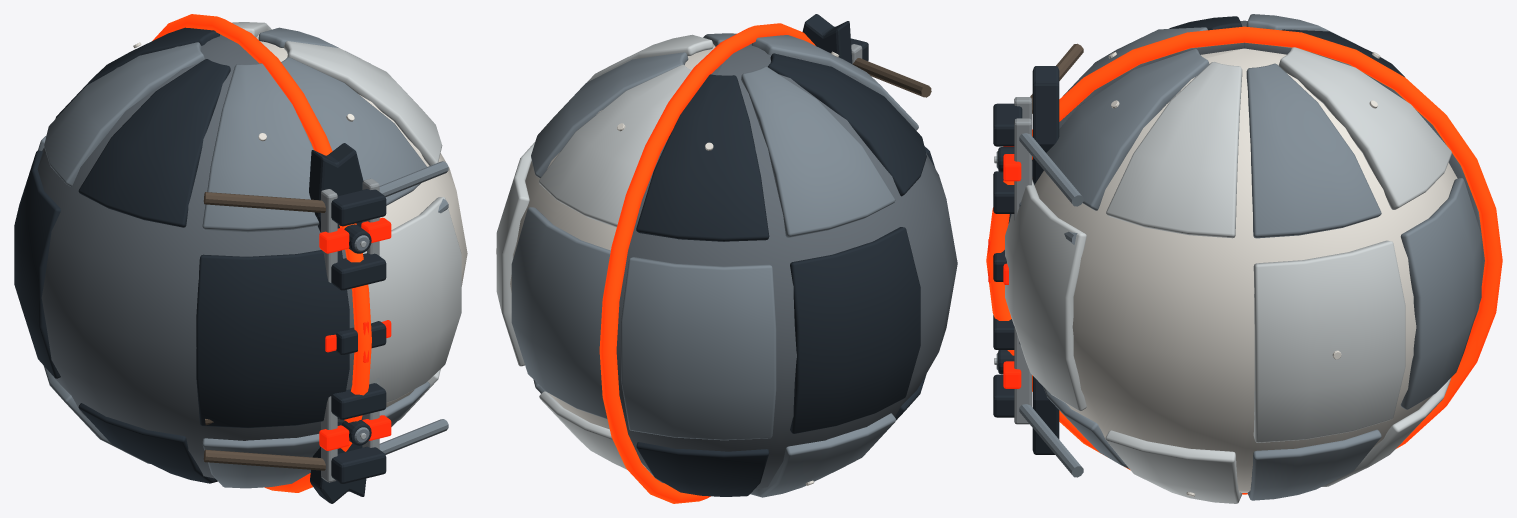
File: orbit-transform-balanced.glb
3 views of the same model, side by side, from view 1: azimuth 30°, elevation 25°; view 2: azimuth 150°, elevation 25°; view 3: azimuth 270°, elevation 25° (orthographic). The views are drawn at different scales.
Visible parts, largest first — view 1: Transform_MID_Legacy, Transform_MID_Legacy_ArmourTile_01_03, Transform_MID_Future_ArmourTile_01_00, Transform_MID_Legacy_ArmourTile_00_02, Transform_MID_Legacy_ArmourTile_00_03, Transform_MID_Legacy_ArmourTile_00_01, Transform_MID_Future_ArmourTile_00_00, Transform_MID_Fault, Transform_MID_Legacy_ArmourTile_01_01, Transform_MID_Future_ArmourTile_00_01, Transform_MID_Legacy_ArmourTile_02_03, Transform_MID_Legacy_ArmourTile_02_02 (+20 smaller); view 2: Transform_MID_Legacy, Transform_MID_Legacy_ArmourTile_01_00, Transform_MID_Legacy_ArmourTile_01_01, Transform_MID_Legacy_ArmourTile_00_00, Transform_MID_Future_ArmourTile_01_03, Transform_MID_Legacy_ArmourTile_00_01, Transform_MID_Future_ArmourTile_00_03, Transform_MID_Fault, Transform_MID_Legacy_ArmourTile_00_02, Transform_MID_Legacy_ArmourTile_02_00, Transform_MID_Future_ArmourTile_00_02, Transform_MID_Legacy_ArmourTile_02_01 (+7 smaller); view 3: Transform_MID_Future, Transform_MID_Future_ArmourTile_01_02, Transform_MID_Future_ArmourTile_00_01, Transform_MID_Future_ArmourTile_00_02, Transform_MID_Fault, Transform_MID_Future_ArmourTile_01_03, Transform_MID_Future_ArmourTile_01_00, Transform_MID_Future_ArmourTile_00_03, Transform_MID_Future_ArmourTile_00_00, Transform_MID_Future_ArmourTile_02_01, Transform_MID_Future_ArmourTile_02_02, Transform_MID_ConversionRiftBack (+14 smaller).
Part boxes in pixels (x1,y1,x2,y2): Transform_MID_Legacy: (37,34,354,478); Transform_MID_Legacy_ArmourTile_01_03: (196,250,349,427); Transform_MID_Future_ArmourTile_01_00: (363,197,461,402); Transform_MID_Legacy_ArmourTile_00_02: (78,59,230,227); Transform_MID_Legacy_ArmourTile_00_03: (202,63,319,232); Transform_MID_Legacy_ArmourTile_00_01: (44,42,204,186); Transform_MID_Future_ArmourTile_00_00: (281,57,426,205); Transform_MID_Fault: (152,14,371,492); Transform_MID_Legacy_ArmourTile_01_01: (14,150,60,378); Transform_MID_Future_ArmourTile_00_01: (284,41,442,165); Transform_MID_Legacy_ArmourTile_02_03: (202,434,320,488); Transform_MID_Legacy_ArmourTile_02_02: (78,403,217,483); Transform_MID_Legacy: (616,43,957,489); Transform_MID_Legacy_ArmourTile_01_00: (621,257,776,440); Transform_MID_Legacy_ArmourTile_01_01: (790,227,920,433); Transform_MID_Legacy_ArmourTile_00_00: (636,74,769,241); Transform_MID_Future_ArmourTile_01_03: (511,207,610,419); Transform_MID_Legacy_ArmourTile_00_01: (741,66,895,237); Transform_MID_Future_ArmourTile_00_03: (538,64,691,227); Transform_MID_Fault: (599,23,815,503); Transform_MID_Legacy_ArmourTile_00_02: (768,53,926,196); Transform_MID_Legacy_ArmourTile_02_00: (636,442,769,496); Transform_MID_Future_ArmourTile_00_02: (531,52,688,177); Transform_MID_Legacy_ArmourTile_02_01: (750,413,896,497); Transform_MID_Future: (1032,48,1457,492); Transform_MID_Future_ArmourTile_01_02: (1253,240,1405,442); Transform_MID_Future_ArmourTile_00_01: (1106,62,1242,238); Transform_MID_Future_ArmourTile_00_02: (1246,63,1381,238); Transform_MID_Fault: (986,26,1502,494); Transform_MID_Future_ArmourTile_01_03: (1400,178,1481,409); Transform_MID_Future_ArmourTile_01_00: (1005,179,1086,410); Transform_MID_Future_ArmourTile_00_03: (1278,47,1451,209); Transform_MID_Future_ArmourTile_00_00: (1046,49,1209,210); Transform_MID_Future_ArmourTile_02_01: (1105,430,1242,503); Transform_MID_Future_ArmourTile_02_02: (1247,429,1381,500); Transform_MID_ConversionRiftBack: (1032,66,1059,454).
Size of the model in its own units: 7.58 by 8.12 by 8.12.
